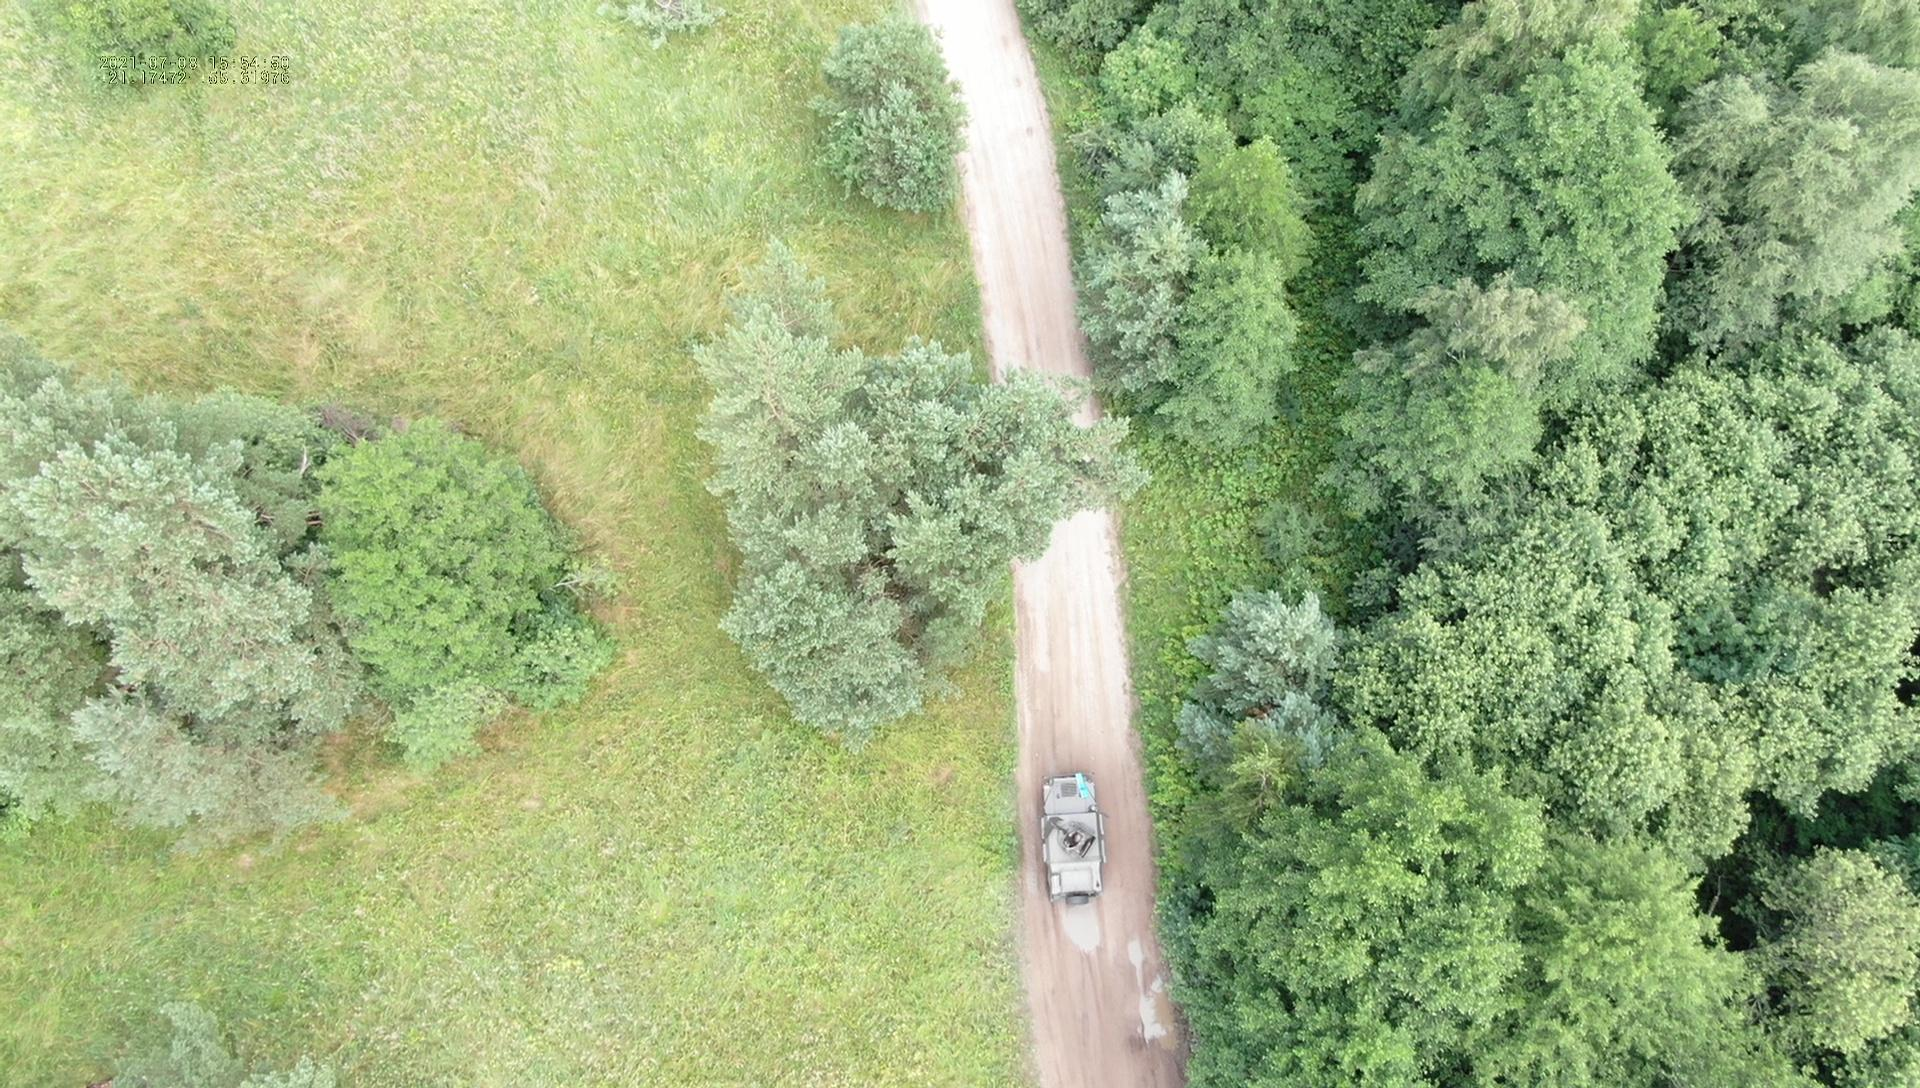Soldier: (960, 481, 1093, 670), (996, 827, 1100, 973), (1187, 760, 1302, 878), (865, 736, 978, 843), (1055, 497, 1160, 607), (944, 162, 1029, 229)
